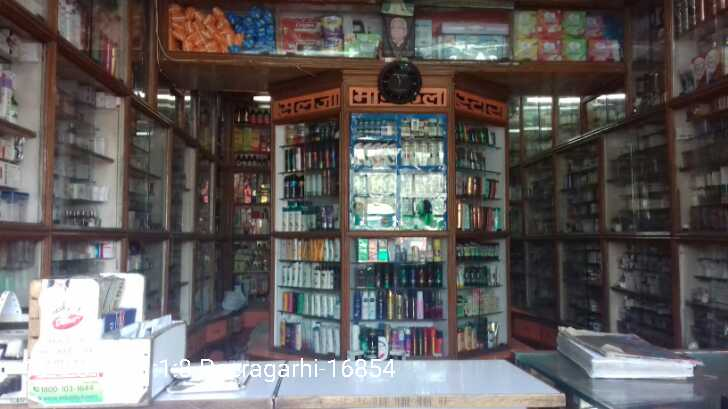vicks: (354, 114, 391, 139)
